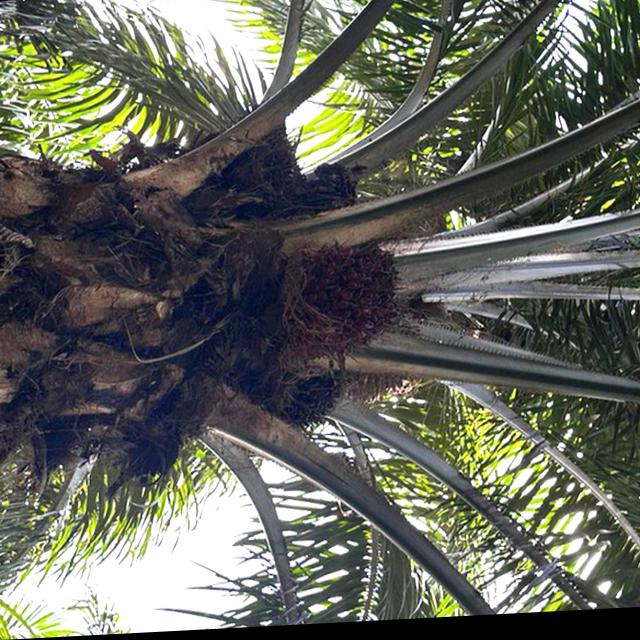ripe: (299, 228, 403, 356), (276, 368, 350, 433)
